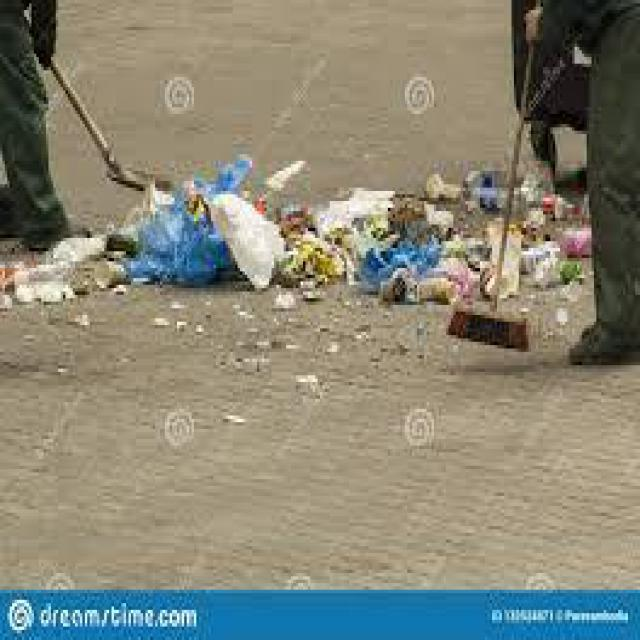garbage: (5, 161, 596, 358)
